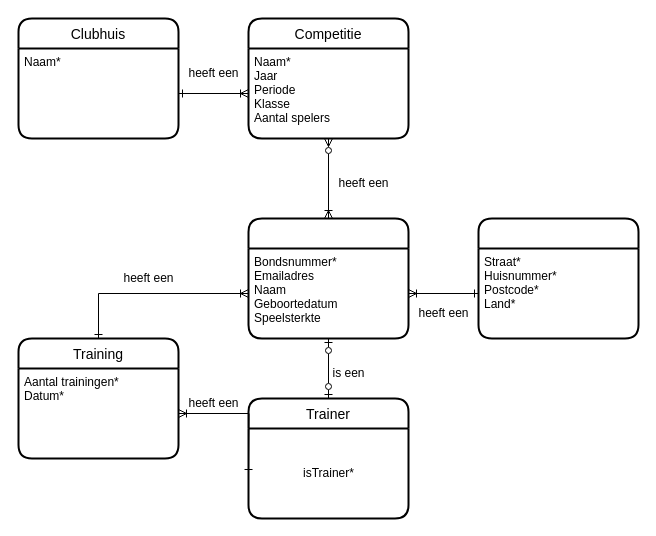
This 656x536 diagram has some shape labels left out. Each missing label, with the box of its shape:
Adres: (477, 217, 639, 339)
Speler: (247, 217, 409, 339)
